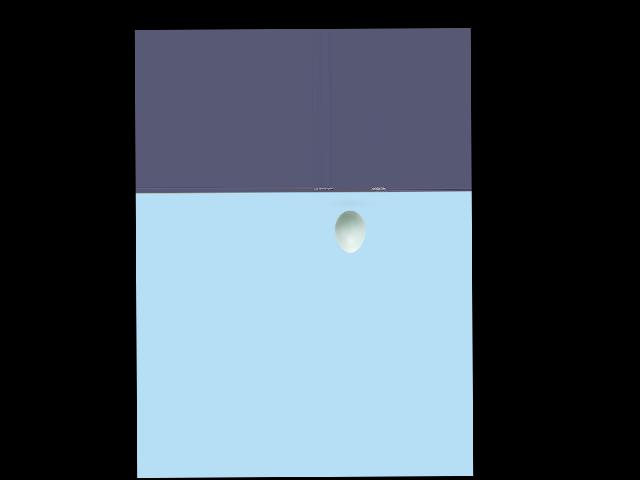egg: (334, 210, 365, 253)
